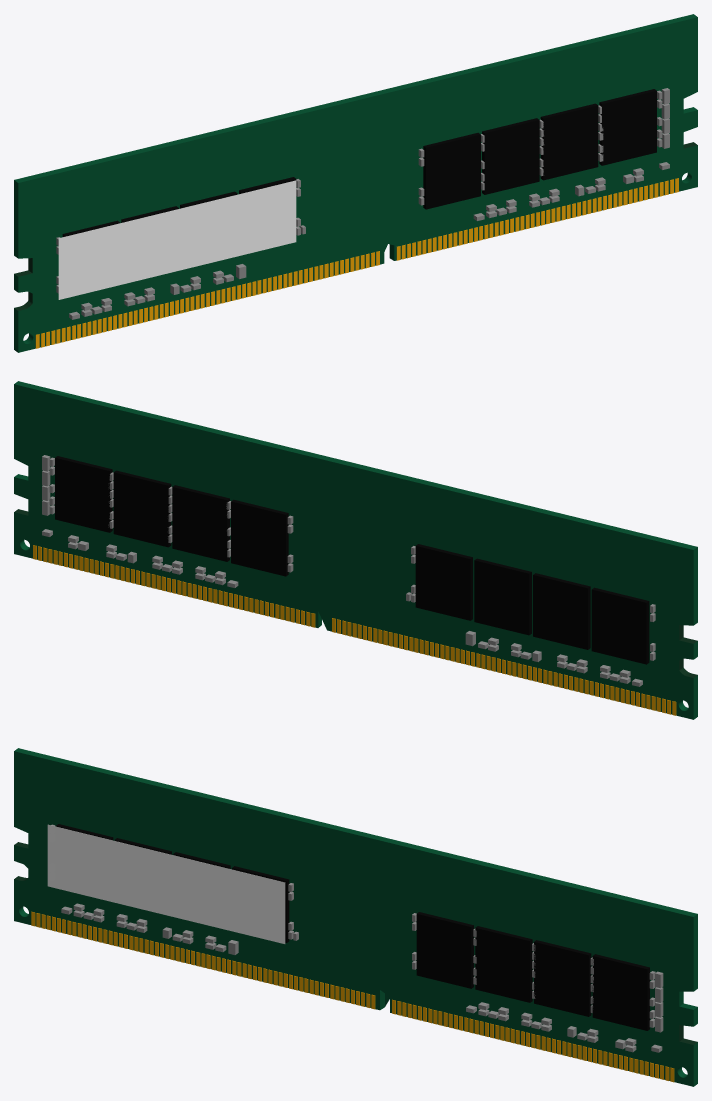
Rendered from RAM 2GB.fbx.
3 views of the same model, one above another, from view 1: azimuth 30°, elevation 25°; view 2: azimuth 150°, elevation 25°; view 3: azimuth 330°, elevation 25° (orthographic).
Parts seen in each view (by area): view 1: Cube.011; view 2: Cube.011; view 3: Cube.011.
Part boxes in pixels (x1,y1,x2,y2): Cube.011: (14,14,697,352); Cube.011: (14,381,697,719); Cube.011: (14,748,697,1086).
Size of the model in its own units: 422 by 101 by 11.92.
